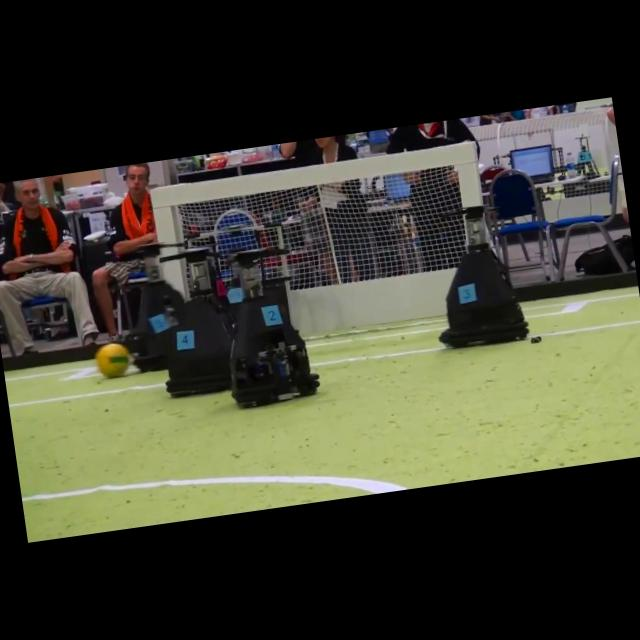ball: (95, 343, 131, 378)
robot: (230, 248, 320, 408), (440, 205, 529, 347), (166, 248, 232, 397), (125, 243, 184, 373)
